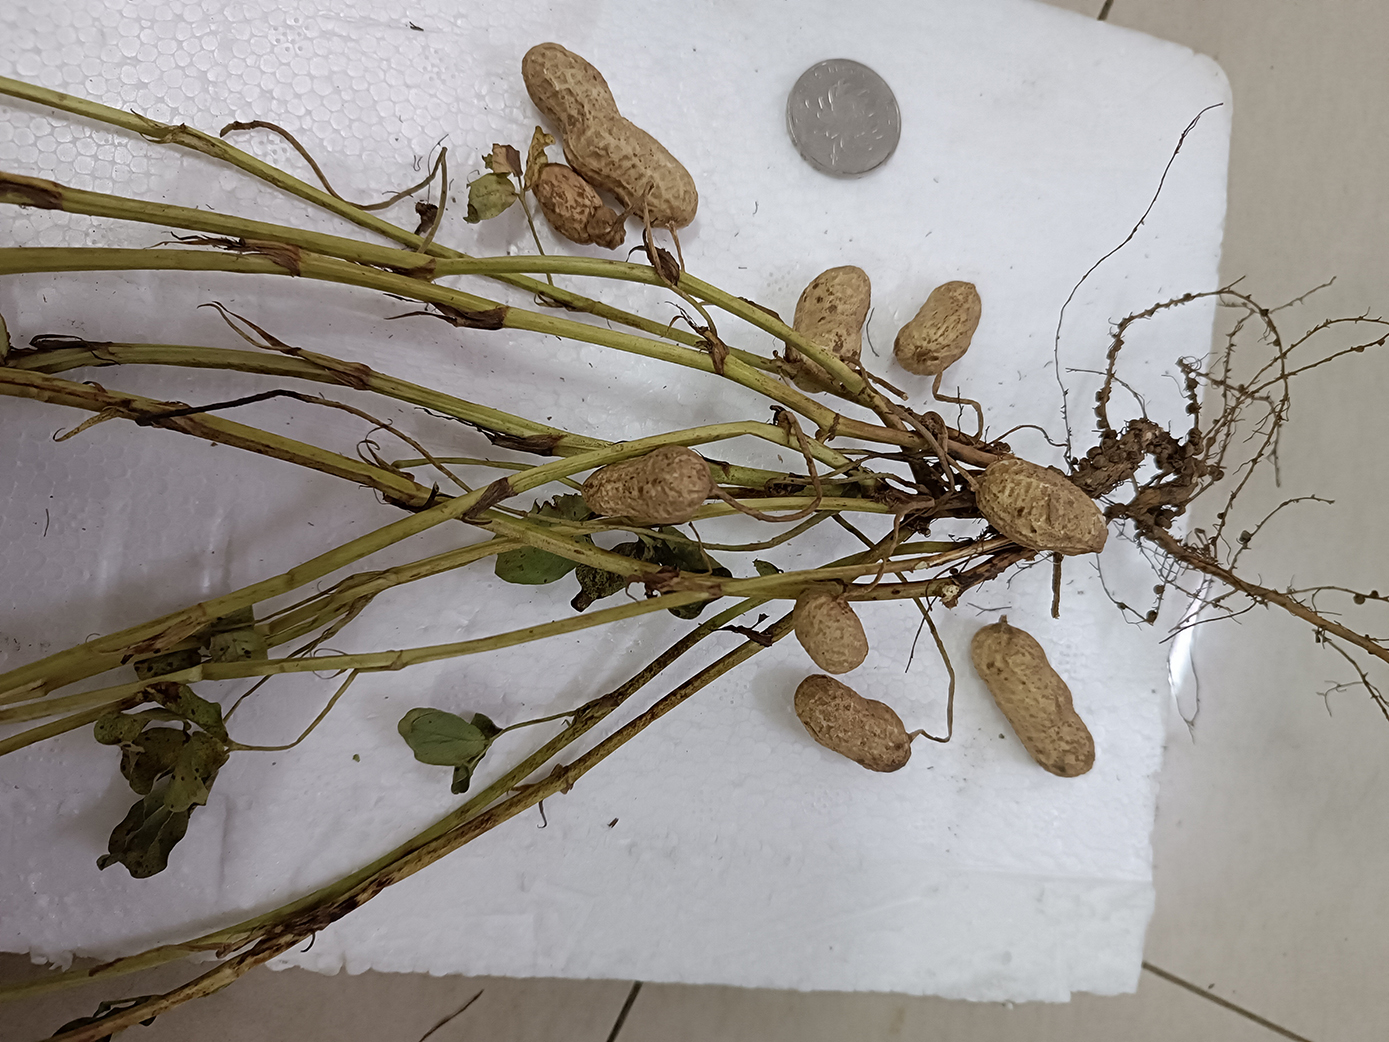h: (522, 39, 699, 230), (970, 625, 1093, 775), (977, 459, 1110, 556), (794, 678, 911, 772), (582, 443, 714, 522), (791, 264, 871, 392), (893, 279, 982, 373), (790, 580, 868, 676)
l: (531, 166, 625, 247)
